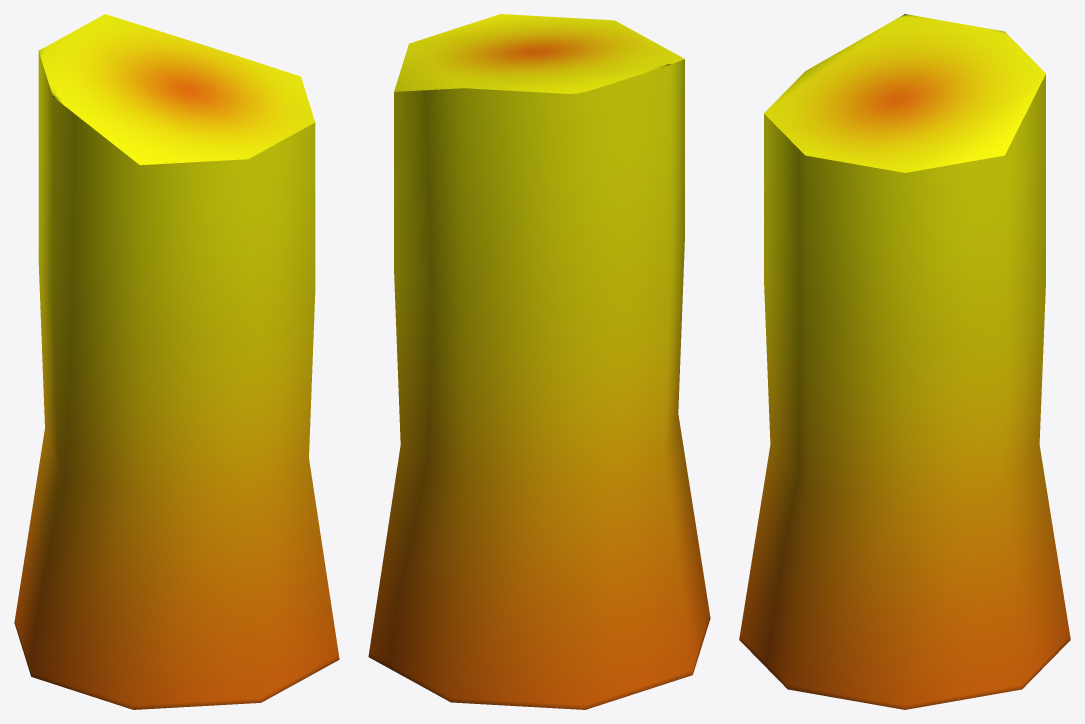
Rendered from Candle.FBX.
The picture shows the model from 3 angles, left to right: view 1: azimuth 30°, elevation 25°; view 2: azimuth 150°, elevation 25°; view 3: azimuth 270°, elevation 25°; orthographic projection. The views are drawn at different scales.
Visible parts, largest first — view 1: Candle01; view 2: Candle01; view 3: Candle01.
Part boxes in pixels (x1=…): Candle01: x1=14, y1=14, x2=339, y2=709; Candle01: x1=368, y1=14, x2=710, y2=709; Candle01: x1=739, y1=14, x2=1070, y2=709.
Bounding box in the file's own units: 3.21 × 6.04 × 3.21.
1 material, 1 textured.
